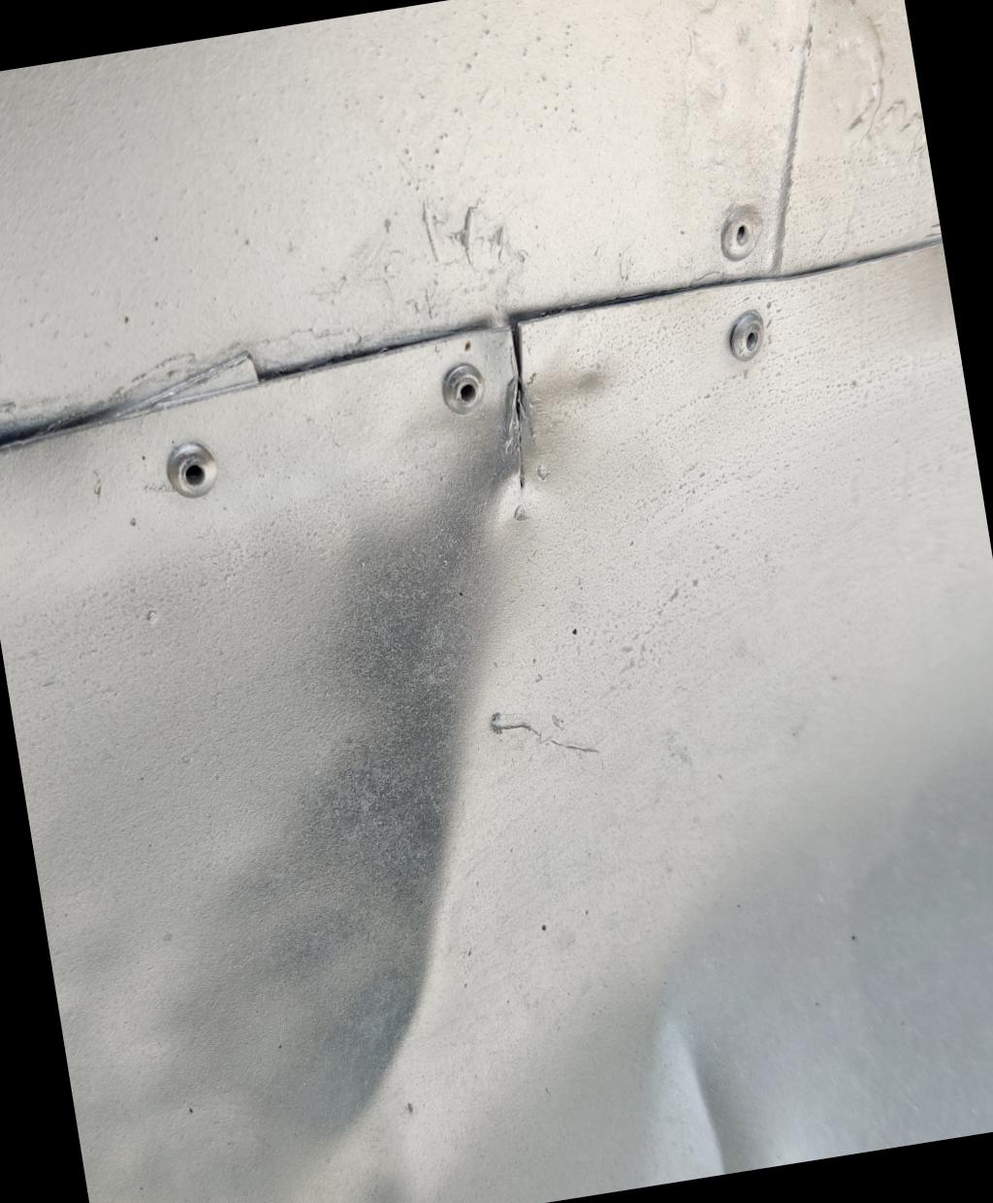crack: (458, 285, 585, 508)
dent: (87, 319, 830, 1203), (563, 920, 869, 1194)
